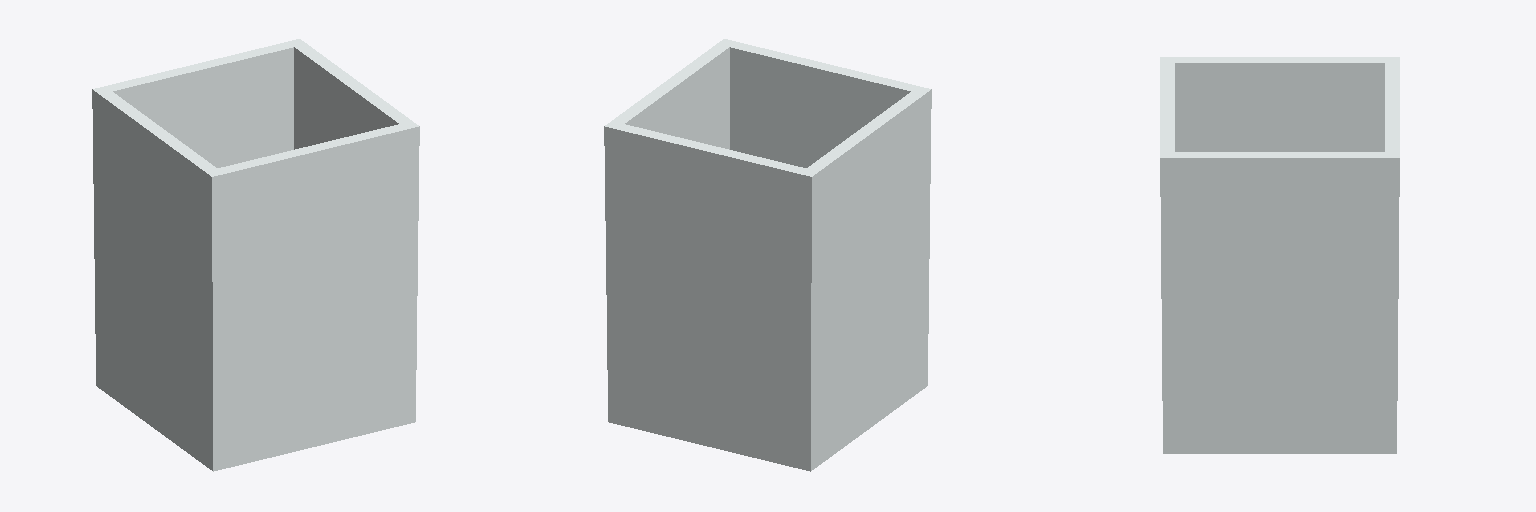
3 views of the same model, side by side, from view 1: azimuth 30°, elevation 25°; view 2: azimuth 150°, elevation 25°; view 3: azimuth 270°, elevation 25° (orthographic).
Parts seen in each view (by area): view 1: Object02, Object04, Object03, Object01; view 2: Object03, Object04, Object02, Object01; view 3: Object01, Object04, Object02, Object03.
Boxes of the visible parts, x1,y1,x2,y2 form: Object02: [212, 124, 419, 471]; Object04: [92, 89, 217, 470]; Object03: [94, 39, 298, 167]; Object01: [294, 39, 418, 149]; Object03: [604, 124, 811, 471]; Object04: [806, 89, 931, 470]; Object02: [725, 39, 929, 167]; Object01: [605, 39, 729, 149]; Object01: [1160, 152, 1399, 453]; Object04: [1161, 57, 1398, 151]; Object02: [1160, 57, 1174, 157]; Object03: [1385, 57, 1399, 157].
Size of the model in its own units: 16.48 by 22.47 by 16.48.